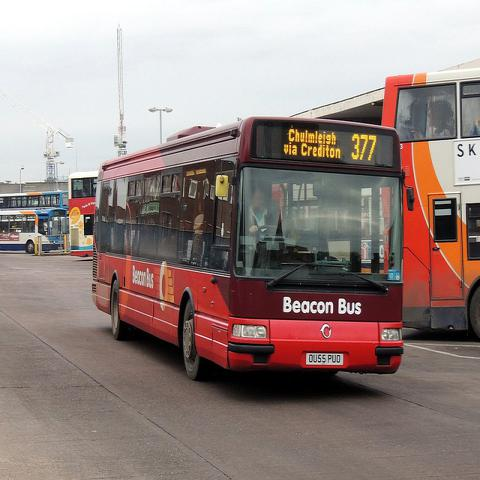bus: (90, 115, 413, 385), (382, 71, 480, 335), (0, 208, 70, 254), (68, 170, 100, 233), (0, 190, 68, 210)
